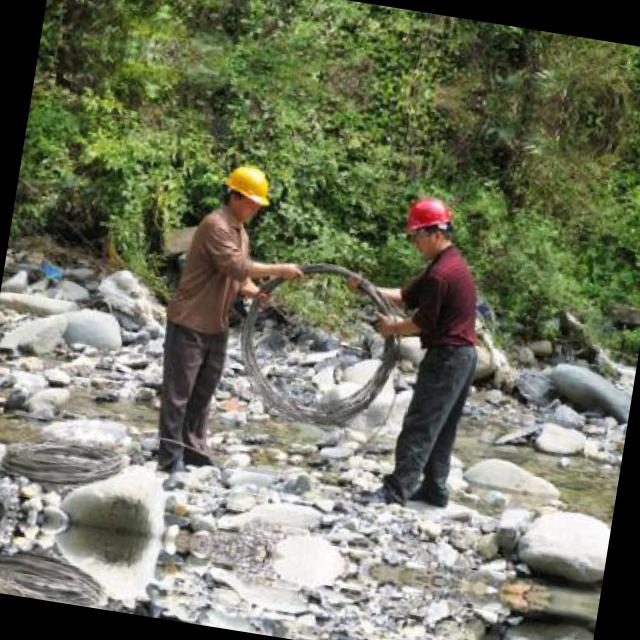helmet: (398, 190, 460, 260), (216, 157, 277, 226)
